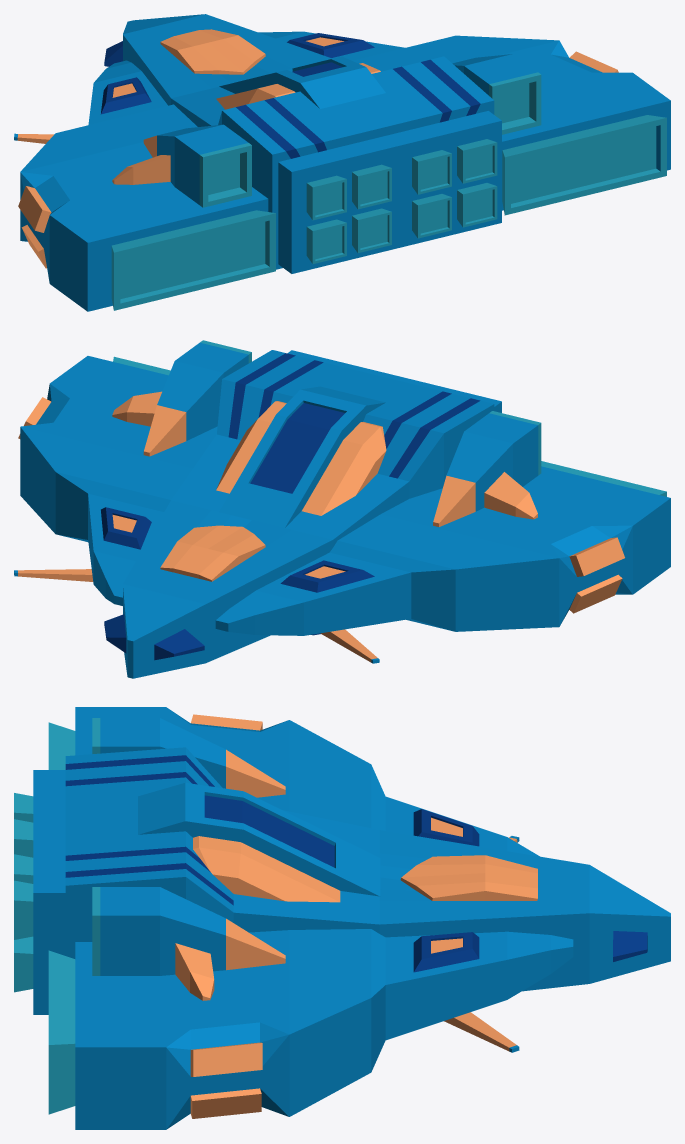
The model's file is Boss1.fbx.
3 renders of one model, top to bottom at view 1: azimuth 30°, elevation 25°; view 2: azimuth 150°, elevation 25°; view 3: azimuth 270°, elevation 25°, orthographic. The views are drawn at different scales.
Visible parts, largest first — view 1: Cube, Cube.002, Cube.001; view 2: Cube, Cube.002, Cube.001; view 3: Cube.001, Cube, Cube.002.
Boxes of the visible parts, bbox=[...] form: Cube: bbox=[104, 14, 501, 273]; Cube.002: bbox=[14, 60, 275, 311]; Cube.001: bbox=[258, 31, 670, 215]; Cube: bbox=[104, 350, 501, 678]; Cube.002: bbox=[215, 411, 670, 663]; Cube.001: bbox=[14, 340, 251, 605]; Cube.001: bbox=[48, 887, 573, 1129]; Cube: bbox=[14, 747, 670, 1014]; Cube.002: bbox=[48, 707, 539, 856].
Size of the model in its own units: 404 by 104 by 325.
